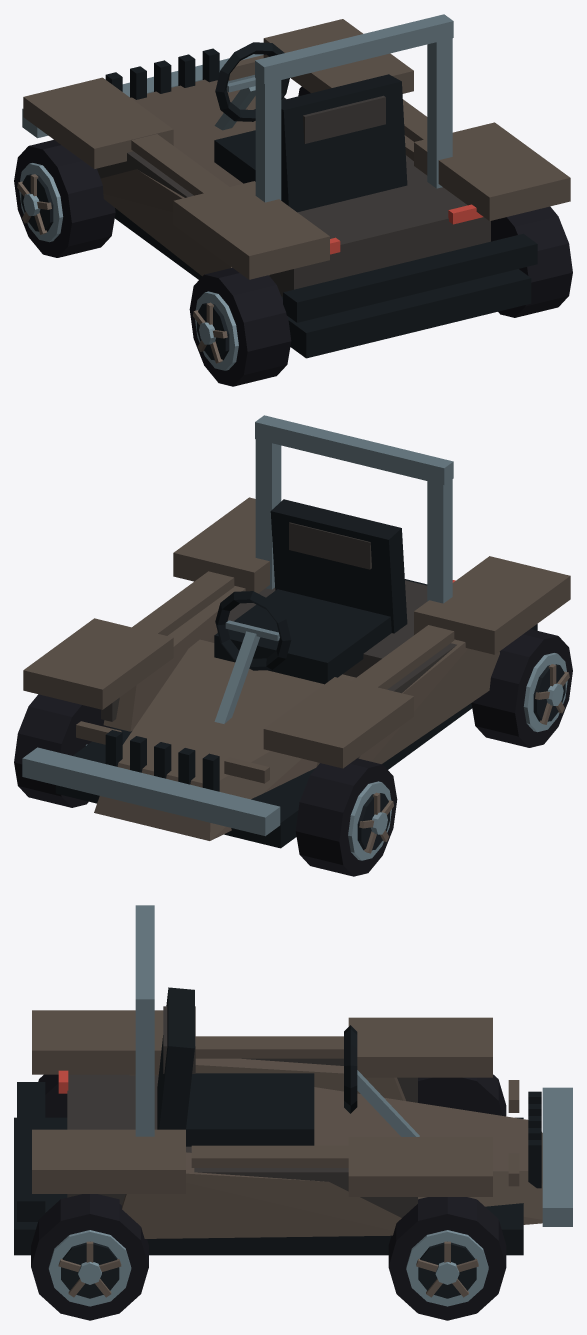
File: kart.glb
3 views of the same model, one above another, from view 1: azimuth 30°, elevation 25°; view 2: azimuth 150°, elevation 25°; view 3: azimuth 270°, elevation 25° (orthographic).
Visible parts, largest first — view 1: chassis, wheel-rear-left, wheel-front-left, wheel-rear-right; view 2: chassis, wheel-front-left, wheel-rear-left, wheel-front-right; view 3: chassis, wheel-front-right, wheel-rear-right, wheel-front-left, wheel-rear-left.
Boxes of the visible parts, bbox=[...] form: chassis: bbox=[22, 14, 570, 358]; wheel-rear-left: bbox=[189, 267, 291, 386]; wheel-front-left: bbox=[14, 140, 115, 257]; wheel-rear-right: bbox=[491, 206, 572, 317]; chassis: bbox=[22, 415, 570, 848]; wheel-front-left: bbox=[295, 758, 397, 876]; wheel-rear-left: bbox=[471, 629, 572, 747]; wheel-front-right: bbox=[14, 694, 111, 807]; chassis: bbox=[14, 905, 572, 1255]; wheel-front-right: bbox=[388, 1197, 506, 1320]; wheel-rear-right: bbox=[31, 1194, 148, 1320]; wheel-front-left: bbox=[418, 1074, 506, 1116]; wheel-rear-left: bbox=[38, 1074, 67, 1117].
Size of the model in its own units: 2.18 by 1.67 by 2.94.
